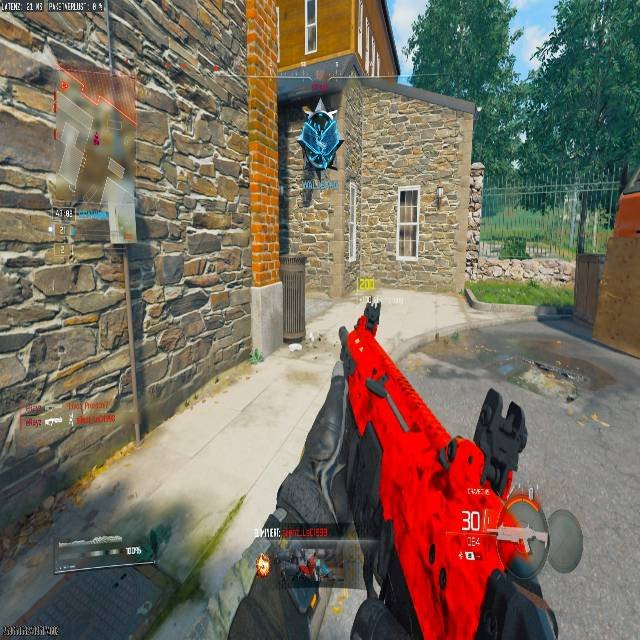player: (289, 94, 344, 215)
